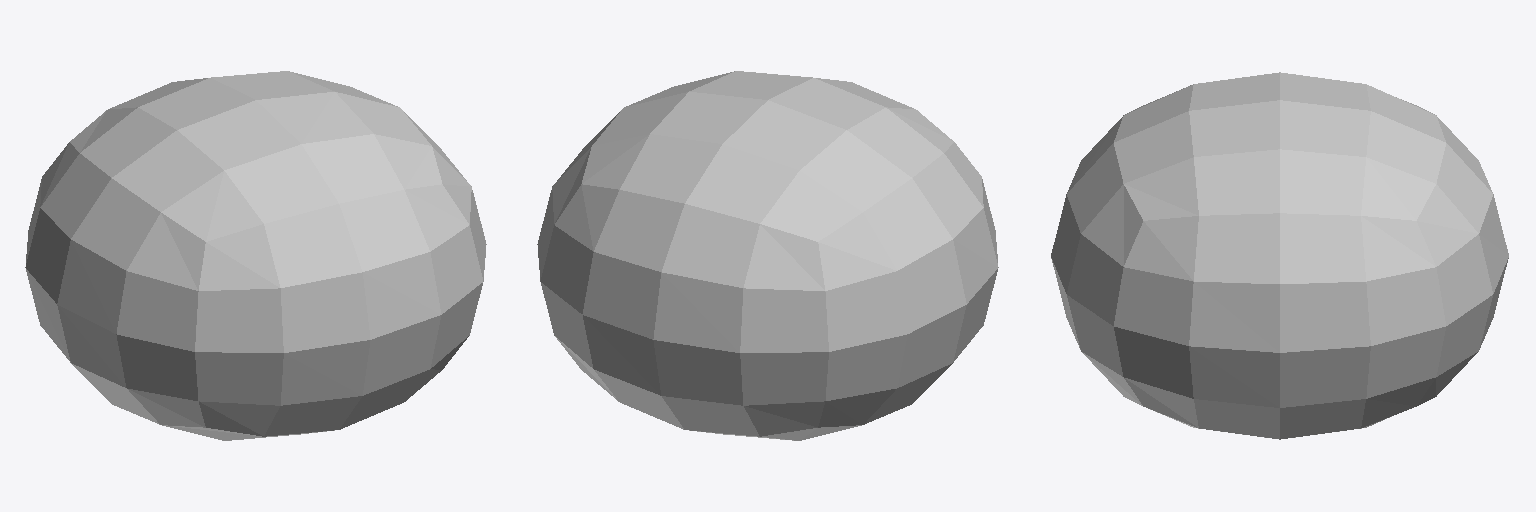
Rendered from pignose4.obj.
The picture shows the model from 3 angles: view 1: azimuth 30°, elevation 25°; view 2: azimuth 150°, elevation 25°; view 3: azimuth 270°, elevation 25°; orthographic projection.
Visible parts, largest first — view 1: Cube; view 2: Cube; view 3: Cube.
Boxes of the visible parts, x1=… form: Cube: x1=25, y1=71, x2=486, y2=440; Cube: x1=537, y1=71, x2=998, y2=440; Cube: x1=1051, y1=72, x2=1508, y2=439.
Size of the model in its own units: 0.4572 by 0.3425 by 0.4565.